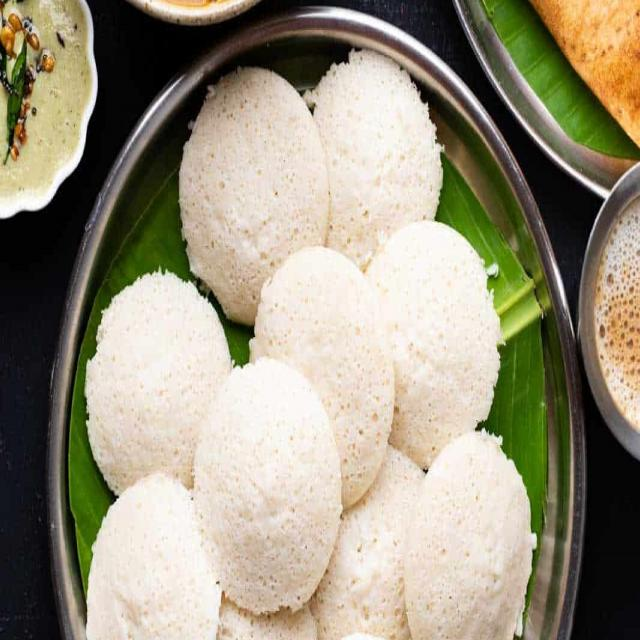Idli: (85, 52, 535, 640)
